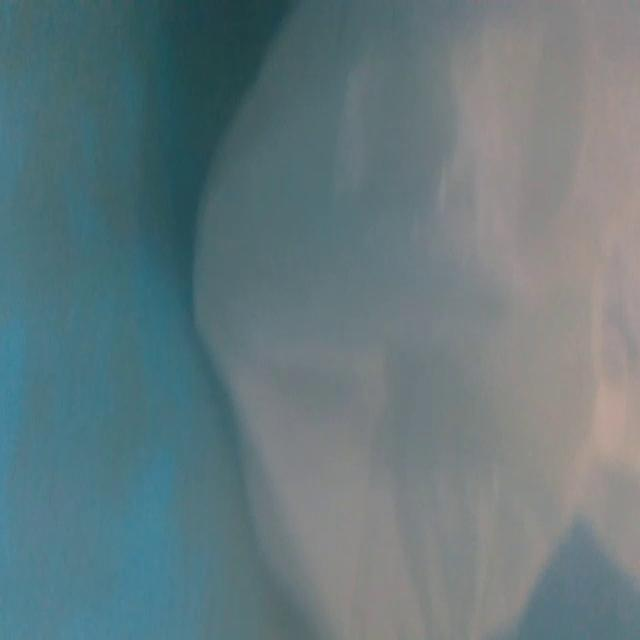plastic bags: (192, 8, 640, 640)
